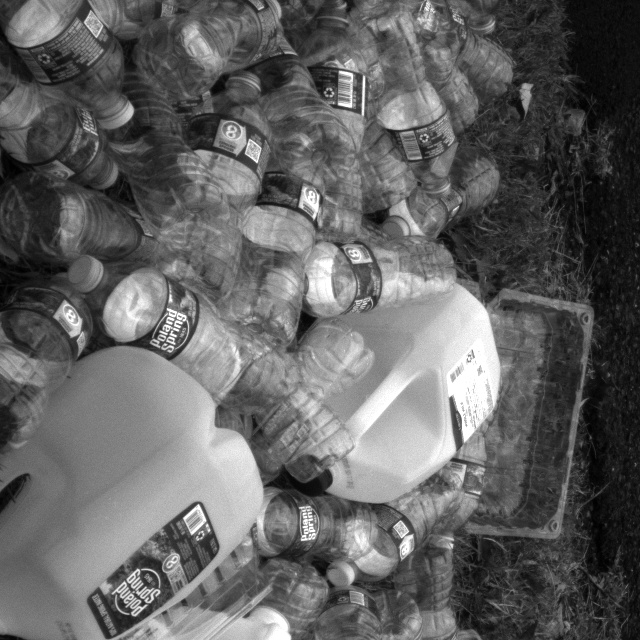bottle: (65, 252, 304, 398), (142, 67, 276, 300), (349, 12, 459, 202), (286, 10, 371, 251), (321, 463, 461, 589), (0, 0, 134, 129)
can: (0, 341, 269, 640), (279, 280, 497, 507)
container: (465, 286, 604, 544)
